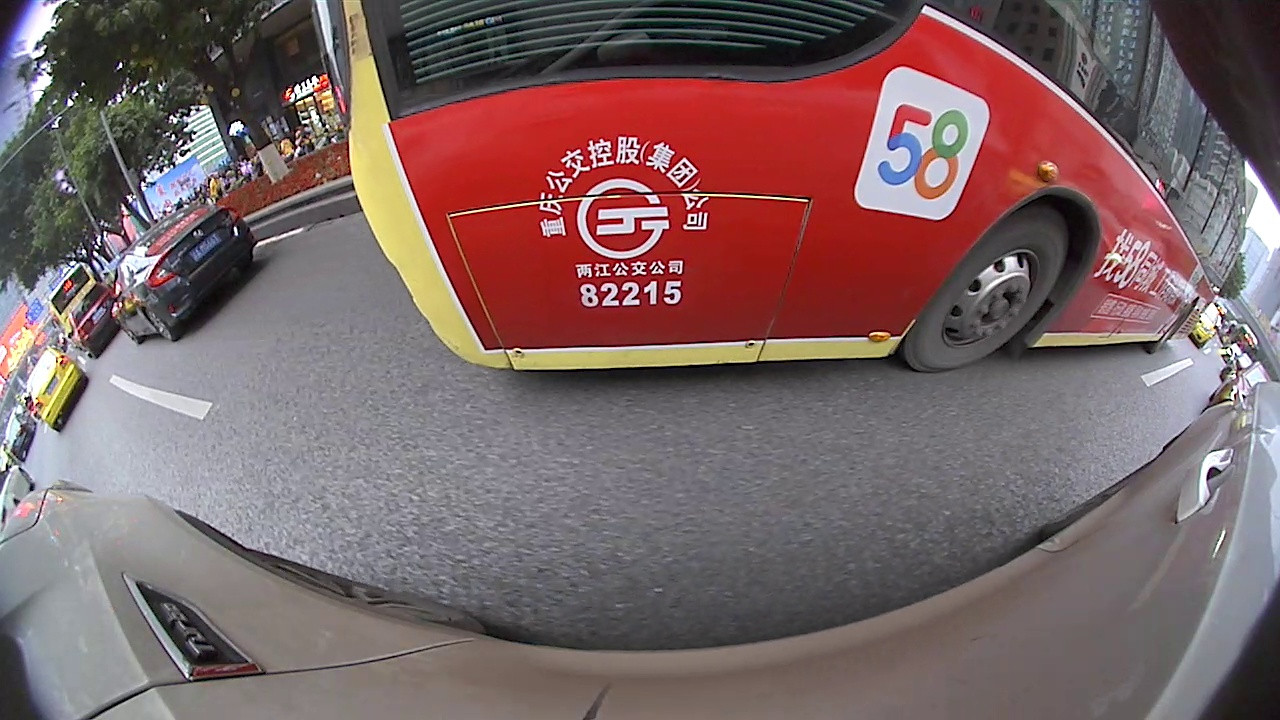bus: (308, 1, 1256, 378)
car: (111, 197, 260, 347), (23, 349, 91, 437), (63, 276, 129, 358)
front: (901, 203, 1075, 376)
rear: (1144, 300, 1199, 355), (141, 307, 180, 344)
